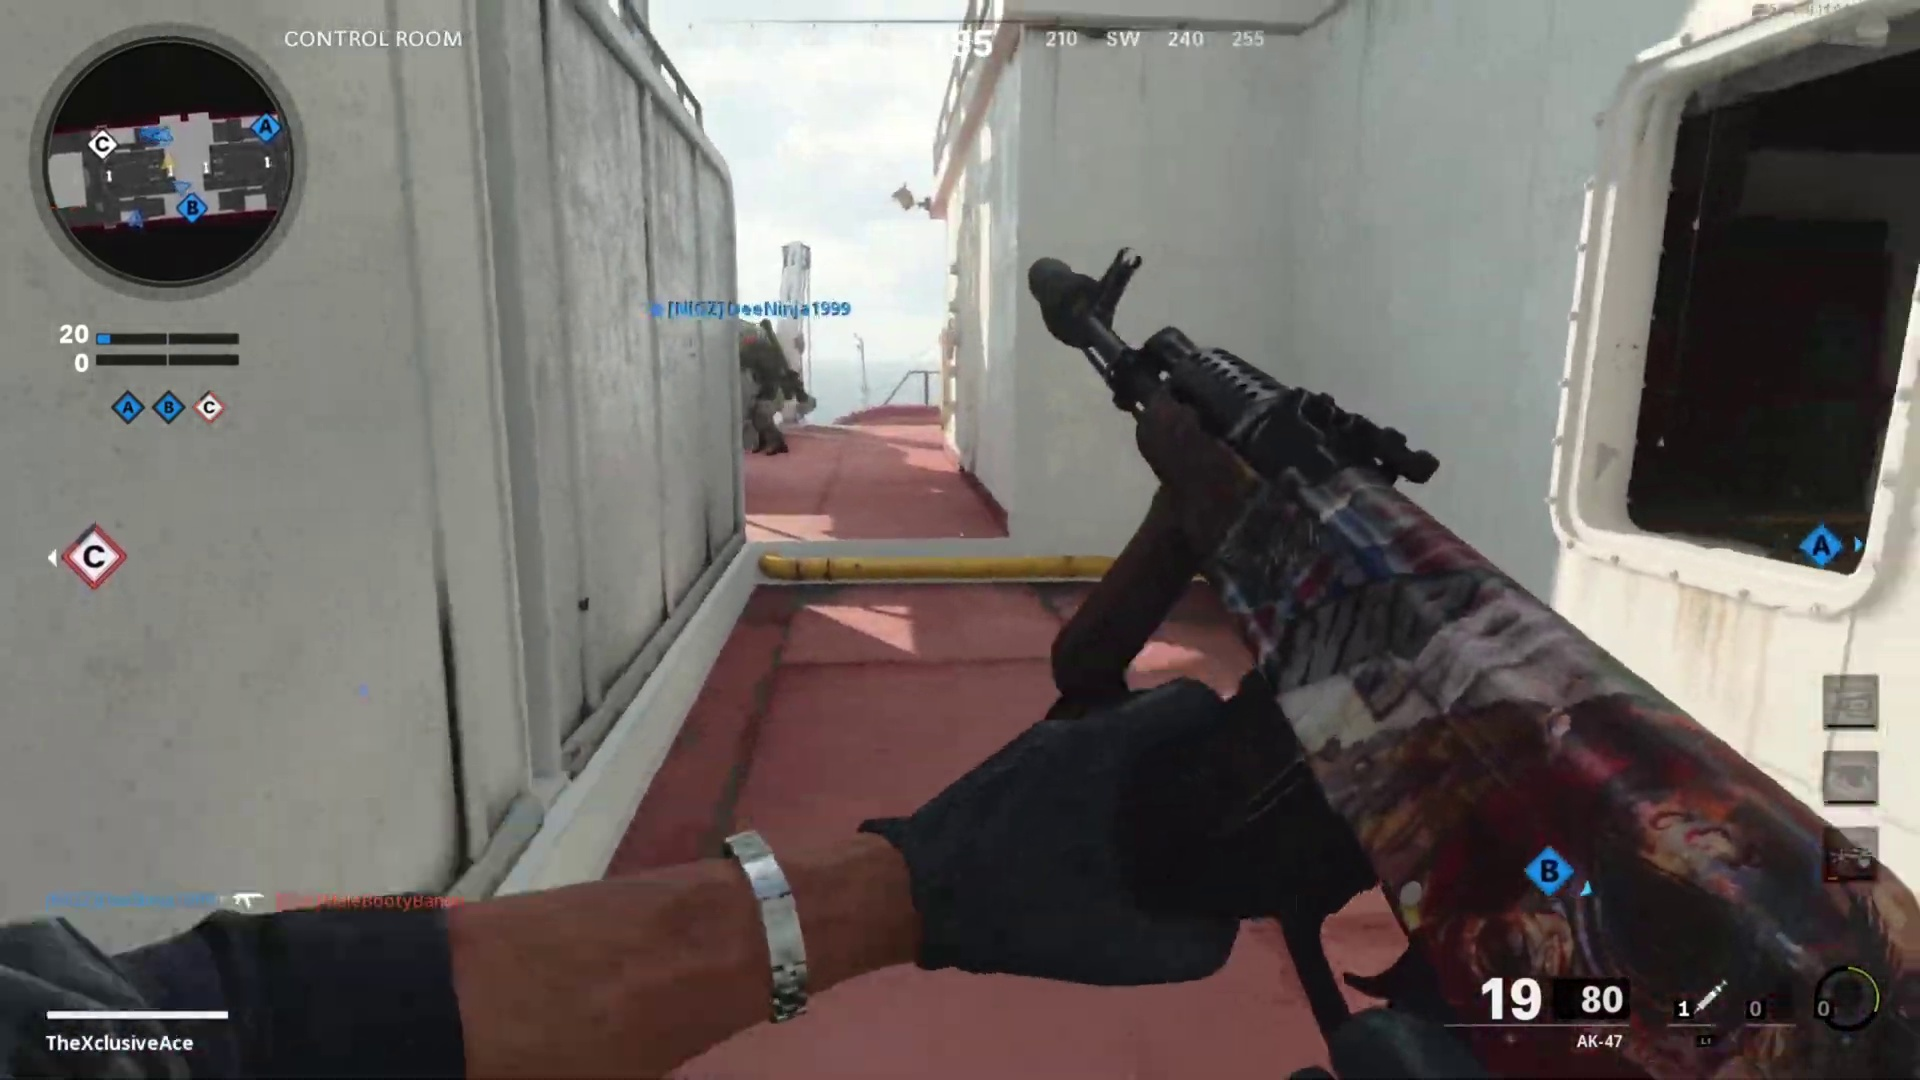person: (738, 323, 798, 454)
